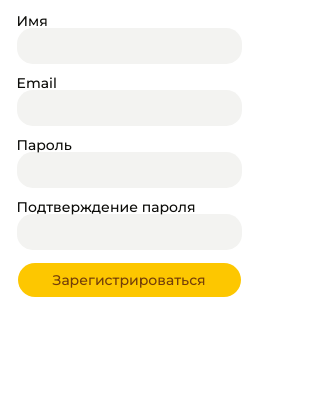
Test: RegisterForm › shows validation errors when submitted empty
Click the button "Зарегистрироваться".
click(129, 280)  # box left=16, top=262, right=242, bottom=298
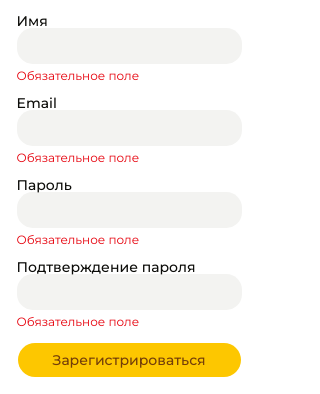
Result: the text "Обязательное поле" is shown 4 times at left=16, top=68, right=139, bottom=83; left=16, top=150, right=139, bottom=165; left=16, top=232, right=139, bottom=247; left=16, top=314, right=139, bottom=329
